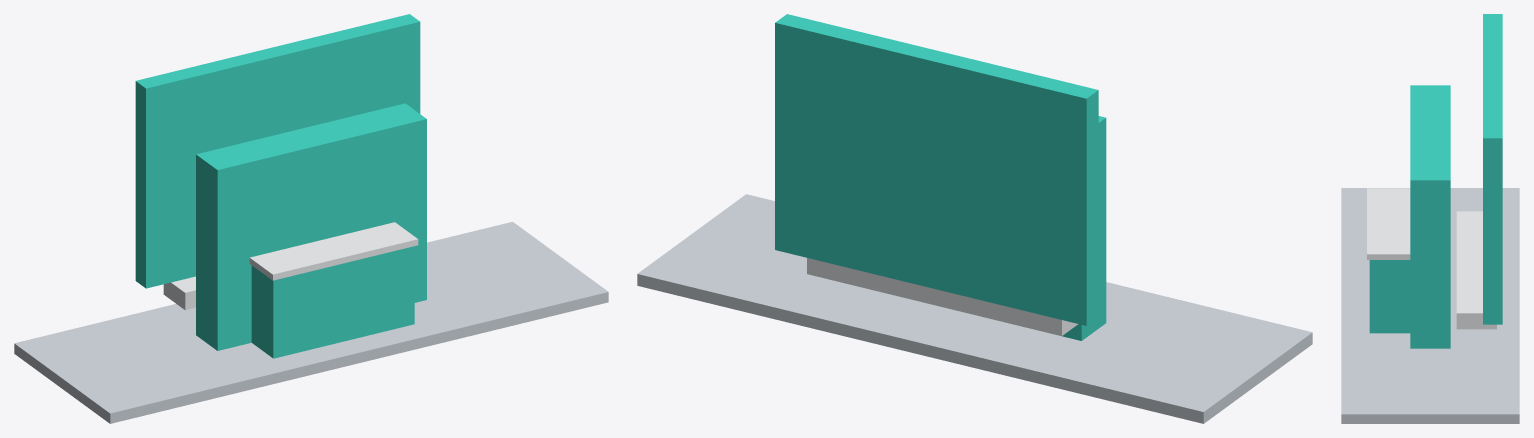
3 views of the same model, side by side, from view 1: azimuth 30°, elevation 25°; view 2: azimuth 150°, elevation 25°; view 3: azimuth 270°, elevation 25° (orthographic). The views are drawn at different scales.
Parts seen in each view (by area): view 1: Exhibition Booth Concept; view 2: Exhibition Booth Concept; view 3: Exhibition Booth Concept.
Boxes of the visible parts, x1=… form: Exhibition Booth Concept: x1=14, y1=14, x2=608, y2=423; Exhibition Booth Concept: x1=637, y1=14, x2=1312, y2=423; Exhibition Booth Concept: x1=1341, y1=14, x2=1519, y2=423.
Size of the model in its own units: 6 by 2.9 by 2.
